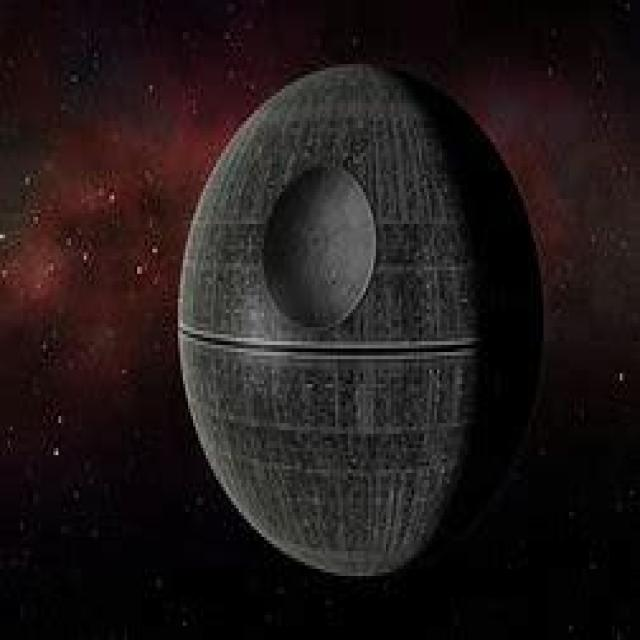Death Star: (178, 64, 544, 575)
